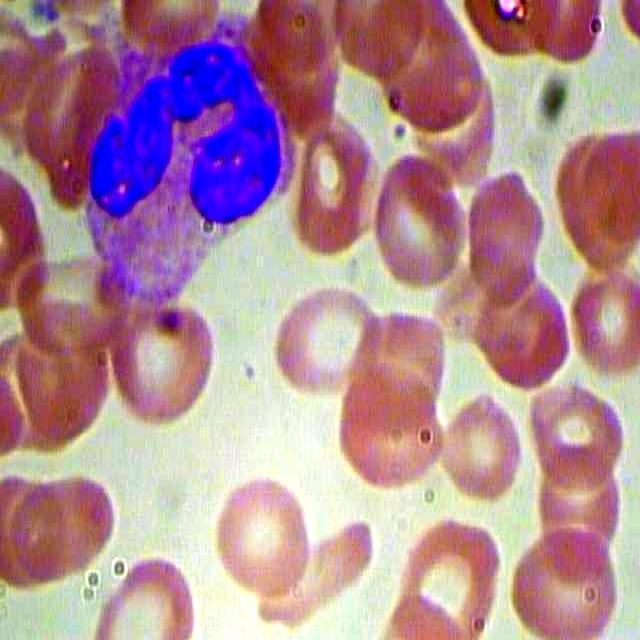RBC: (103, 294, 224, 429), (273, 285, 389, 404), (395, 518, 508, 640), (335, 364, 445, 488), (373, 154, 470, 294), (7, 471, 125, 586), (214, 467, 310, 604), (504, 526, 619, 640), (288, 112, 375, 255), (464, 163, 551, 305), (525, 377, 630, 491), (93, 550, 204, 640), (439, 392, 524, 509), (569, 260, 640, 381)
WBC: (62, 9, 294, 300)
